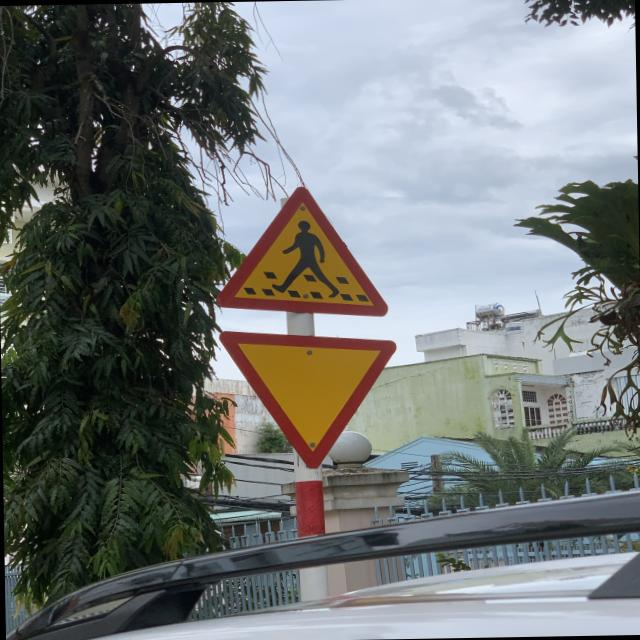Duong_Nguoi_Di_Bo_Sang_Ngang: (210, 180, 388, 318)
Gioi_Han_Toc_Do_25: (222, 326, 398, 468)
